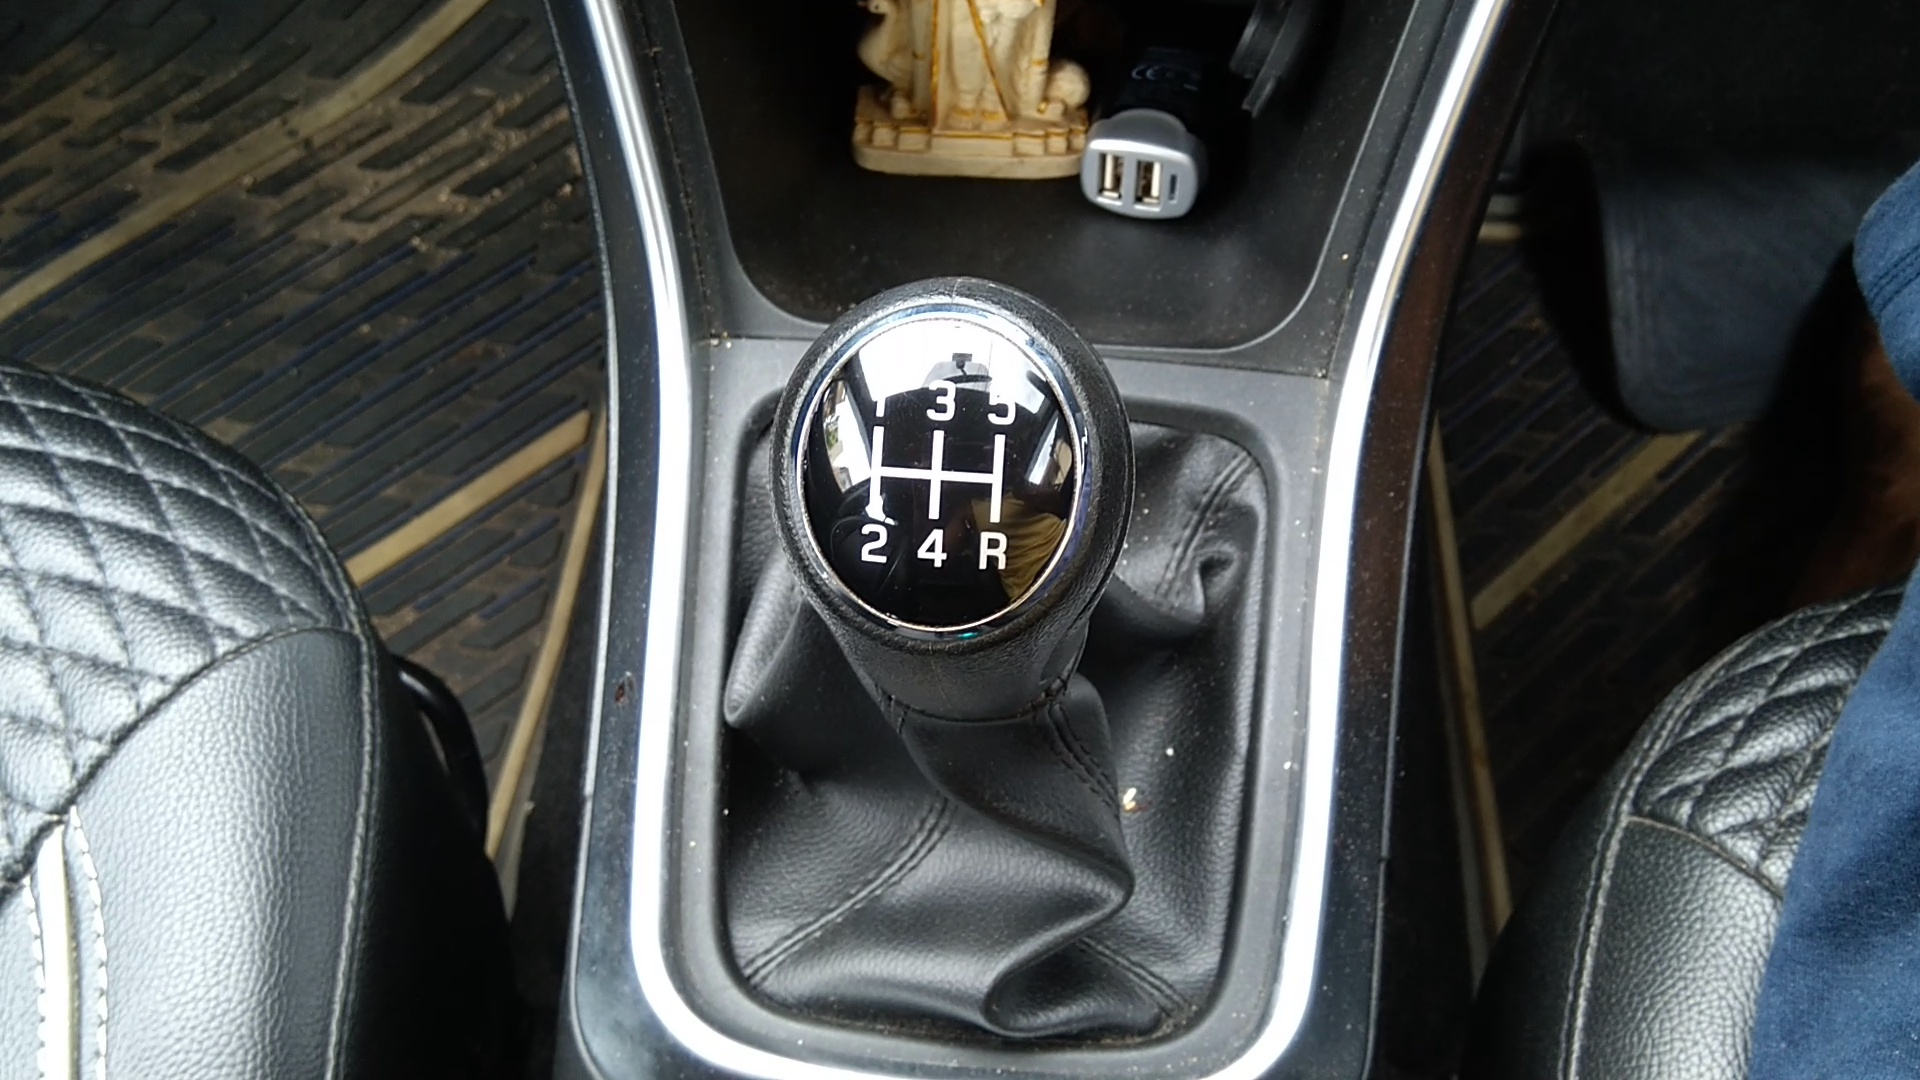manual_gear: (779, 282, 1139, 756)
